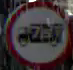Heavy Vehicles: (4, 0, 72, 68)
